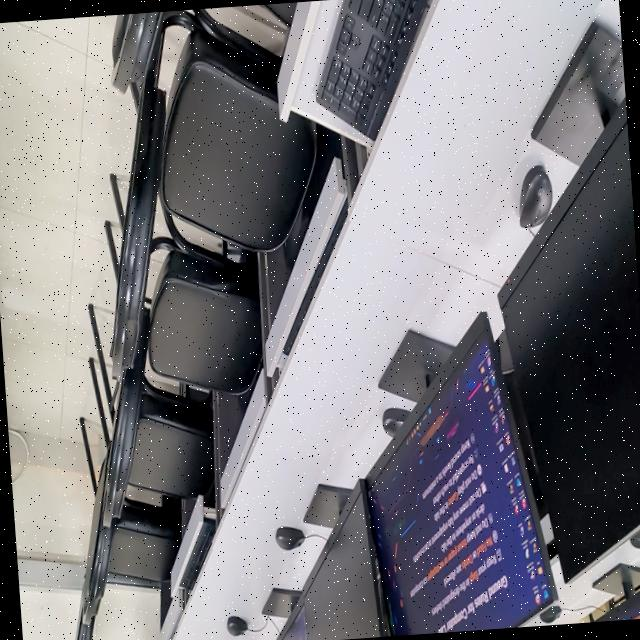Chair: (110, 8, 315, 375), (81, 233, 262, 623), (127, 367, 213, 497), (105, 496, 180, 588), (111, 10, 160, 92), (75, 607, 95, 640)
Keyboard: (315, 0, 427, 138)
Monitor: (497, 94, 640, 580), (367, 312, 556, 636), (274, 479, 388, 640), (588, 588, 640, 622)
Mouse: (518, 164, 551, 232), (381, 407, 408, 436), (274, 526, 304, 549), (226, 616, 247, 635), (539, 604, 560, 622), (628, 529, 640, 547)
